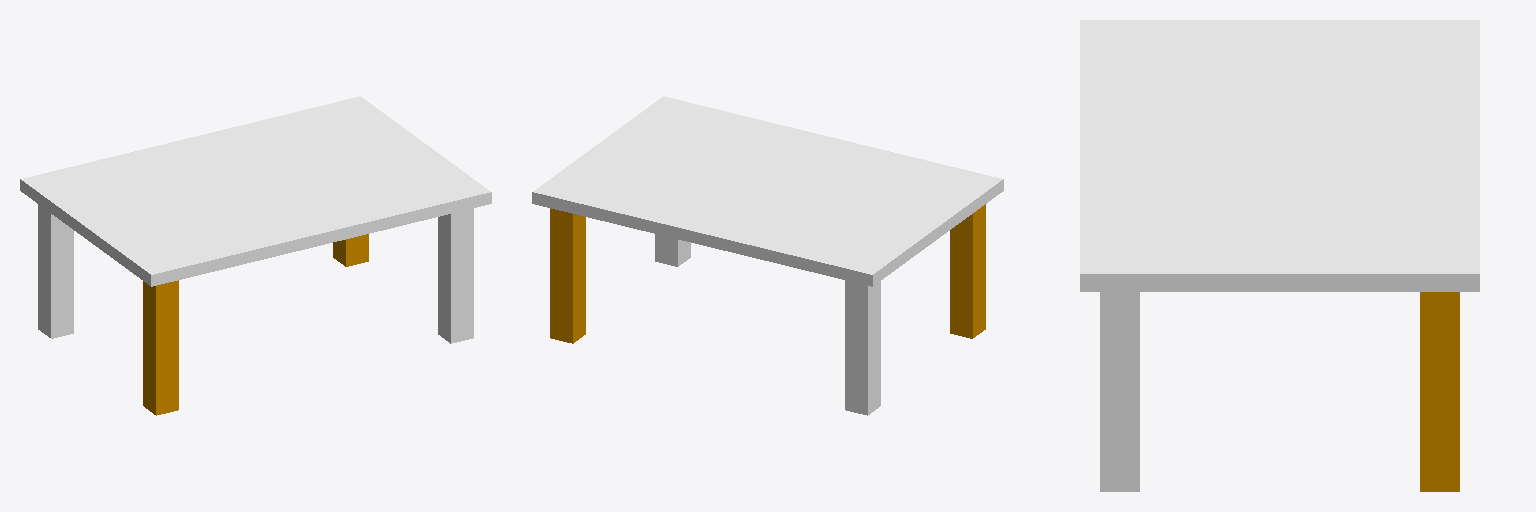
The robot description file, URDF, robot "table.urdf":
<?xml version="0.0" ?>
<robot name="table.urdf">
       <material name="white">
                      <color rgba="1.0 1.0 1.0 1.0"/>
      </material>

  <link name="baseLink">
    <contact>
      <lateral_friction value="1.0"/>
    </contact>
    <inertial>
      <origin rpy="0 0 0" xyz="0 0 0"/>
       <mass value=".0"/>
       <inertia ixx="1" ixy="0" ixz="0" iyy="1" iyz="0" izz="1"/>
    </inertial>
    <visual>
      <origin rpy="0 0 0" xyz="0 0 0.6"/>
      <geometry>
	 	<box size="1.5 1 0.05"/>
      </geometry>
    <material name="white" />
    </visual>
    <collision>
      <origin rpy="0 0 0" xyz="0 0 0.6"/>
      <geometry>
	 	<box size="1.5 1 0.05"/>
      </geometry>
    </collision>
	<visual>
      <origin rpy="0 0 0" xyz="-0.65 -0.4 0.29"/>
      <geometry>
    <box size="0.1 0.1 0.58"/>
      </geometry>
    </visual>
    <visual>
      <origin rpy="0 0 0" xyz="-0.65 0.4 0.29"/>
      <geometry>
    <box size="0.1 0.1 0.58"/>
      </geometry>
	  <material name="white"/>
	  </visual>
    <visual>
      <origin rpy="0 0 0" xyz="0.65 -0.4 0.29"/>
      <geometry>
    <box size="0.1 0.1 0.58"/>
      </geometry>
	  <material name="white"/>
	  </visual>
    <visual>
      <origin rpy="0 0 0" xyz="0.65 0.4 0.29"/>
      <geometry>
    <box size="0.1 0.1 0.58"/>
      </geometry>
    </visual>
  </link>
</robot>

--- What the picture shows (computed from the rendered views, not written in the file) ---
Views: 3 orthographic renders of the robot side by side, from view 1: azimuth 30°, elevation 25°; view 2: azimuth 150°, elevation 25°; view 3: azimuth 270°, elevation 25°.
Robot: table.urdf — 1 links, 0 joints (none); root link baseLink; default pose: every joint at zero.
Links seen in each view (by area): view 1: baseLink; view 2: baseLink; view 3: baseLink.
Link boxes in pixels (x1,y1,x2,y2): baseLink: [20, 96, 491, 415]; baseLink: [532, 96, 1003, 415]; baseLink: [1080, 20, 1479, 491].
Bounding box of the posed robot: 1.5 × 1 × 0.625 m (x, y, z).
Geometry: primitives only (box / cylinder / sphere), no mesh files.